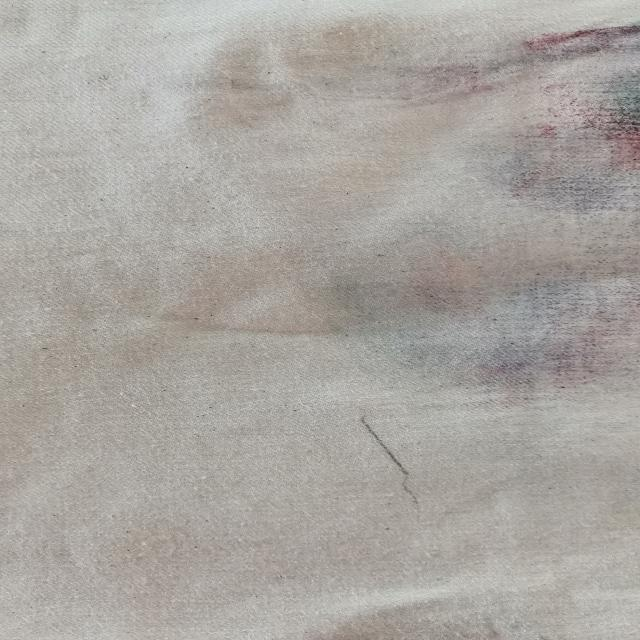taaaches: (212, 26, 629, 397), (342, 408, 437, 523)
